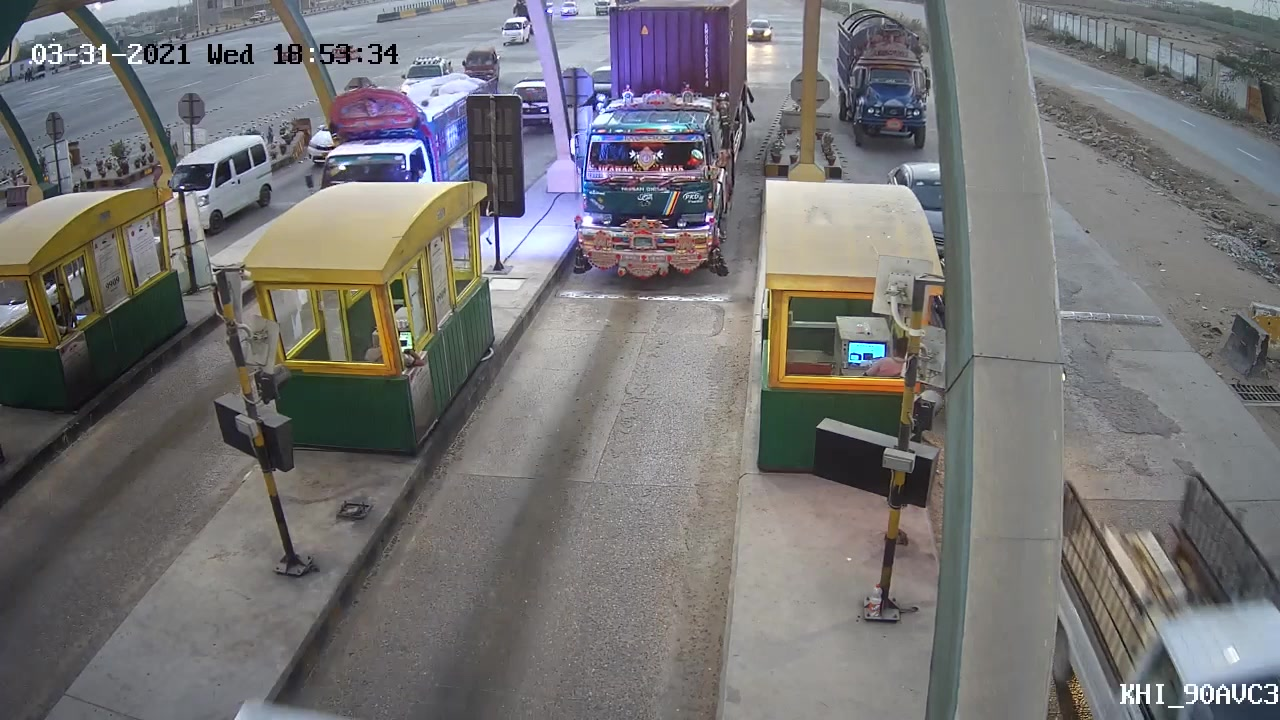F6: (563, 1, 756, 288)
